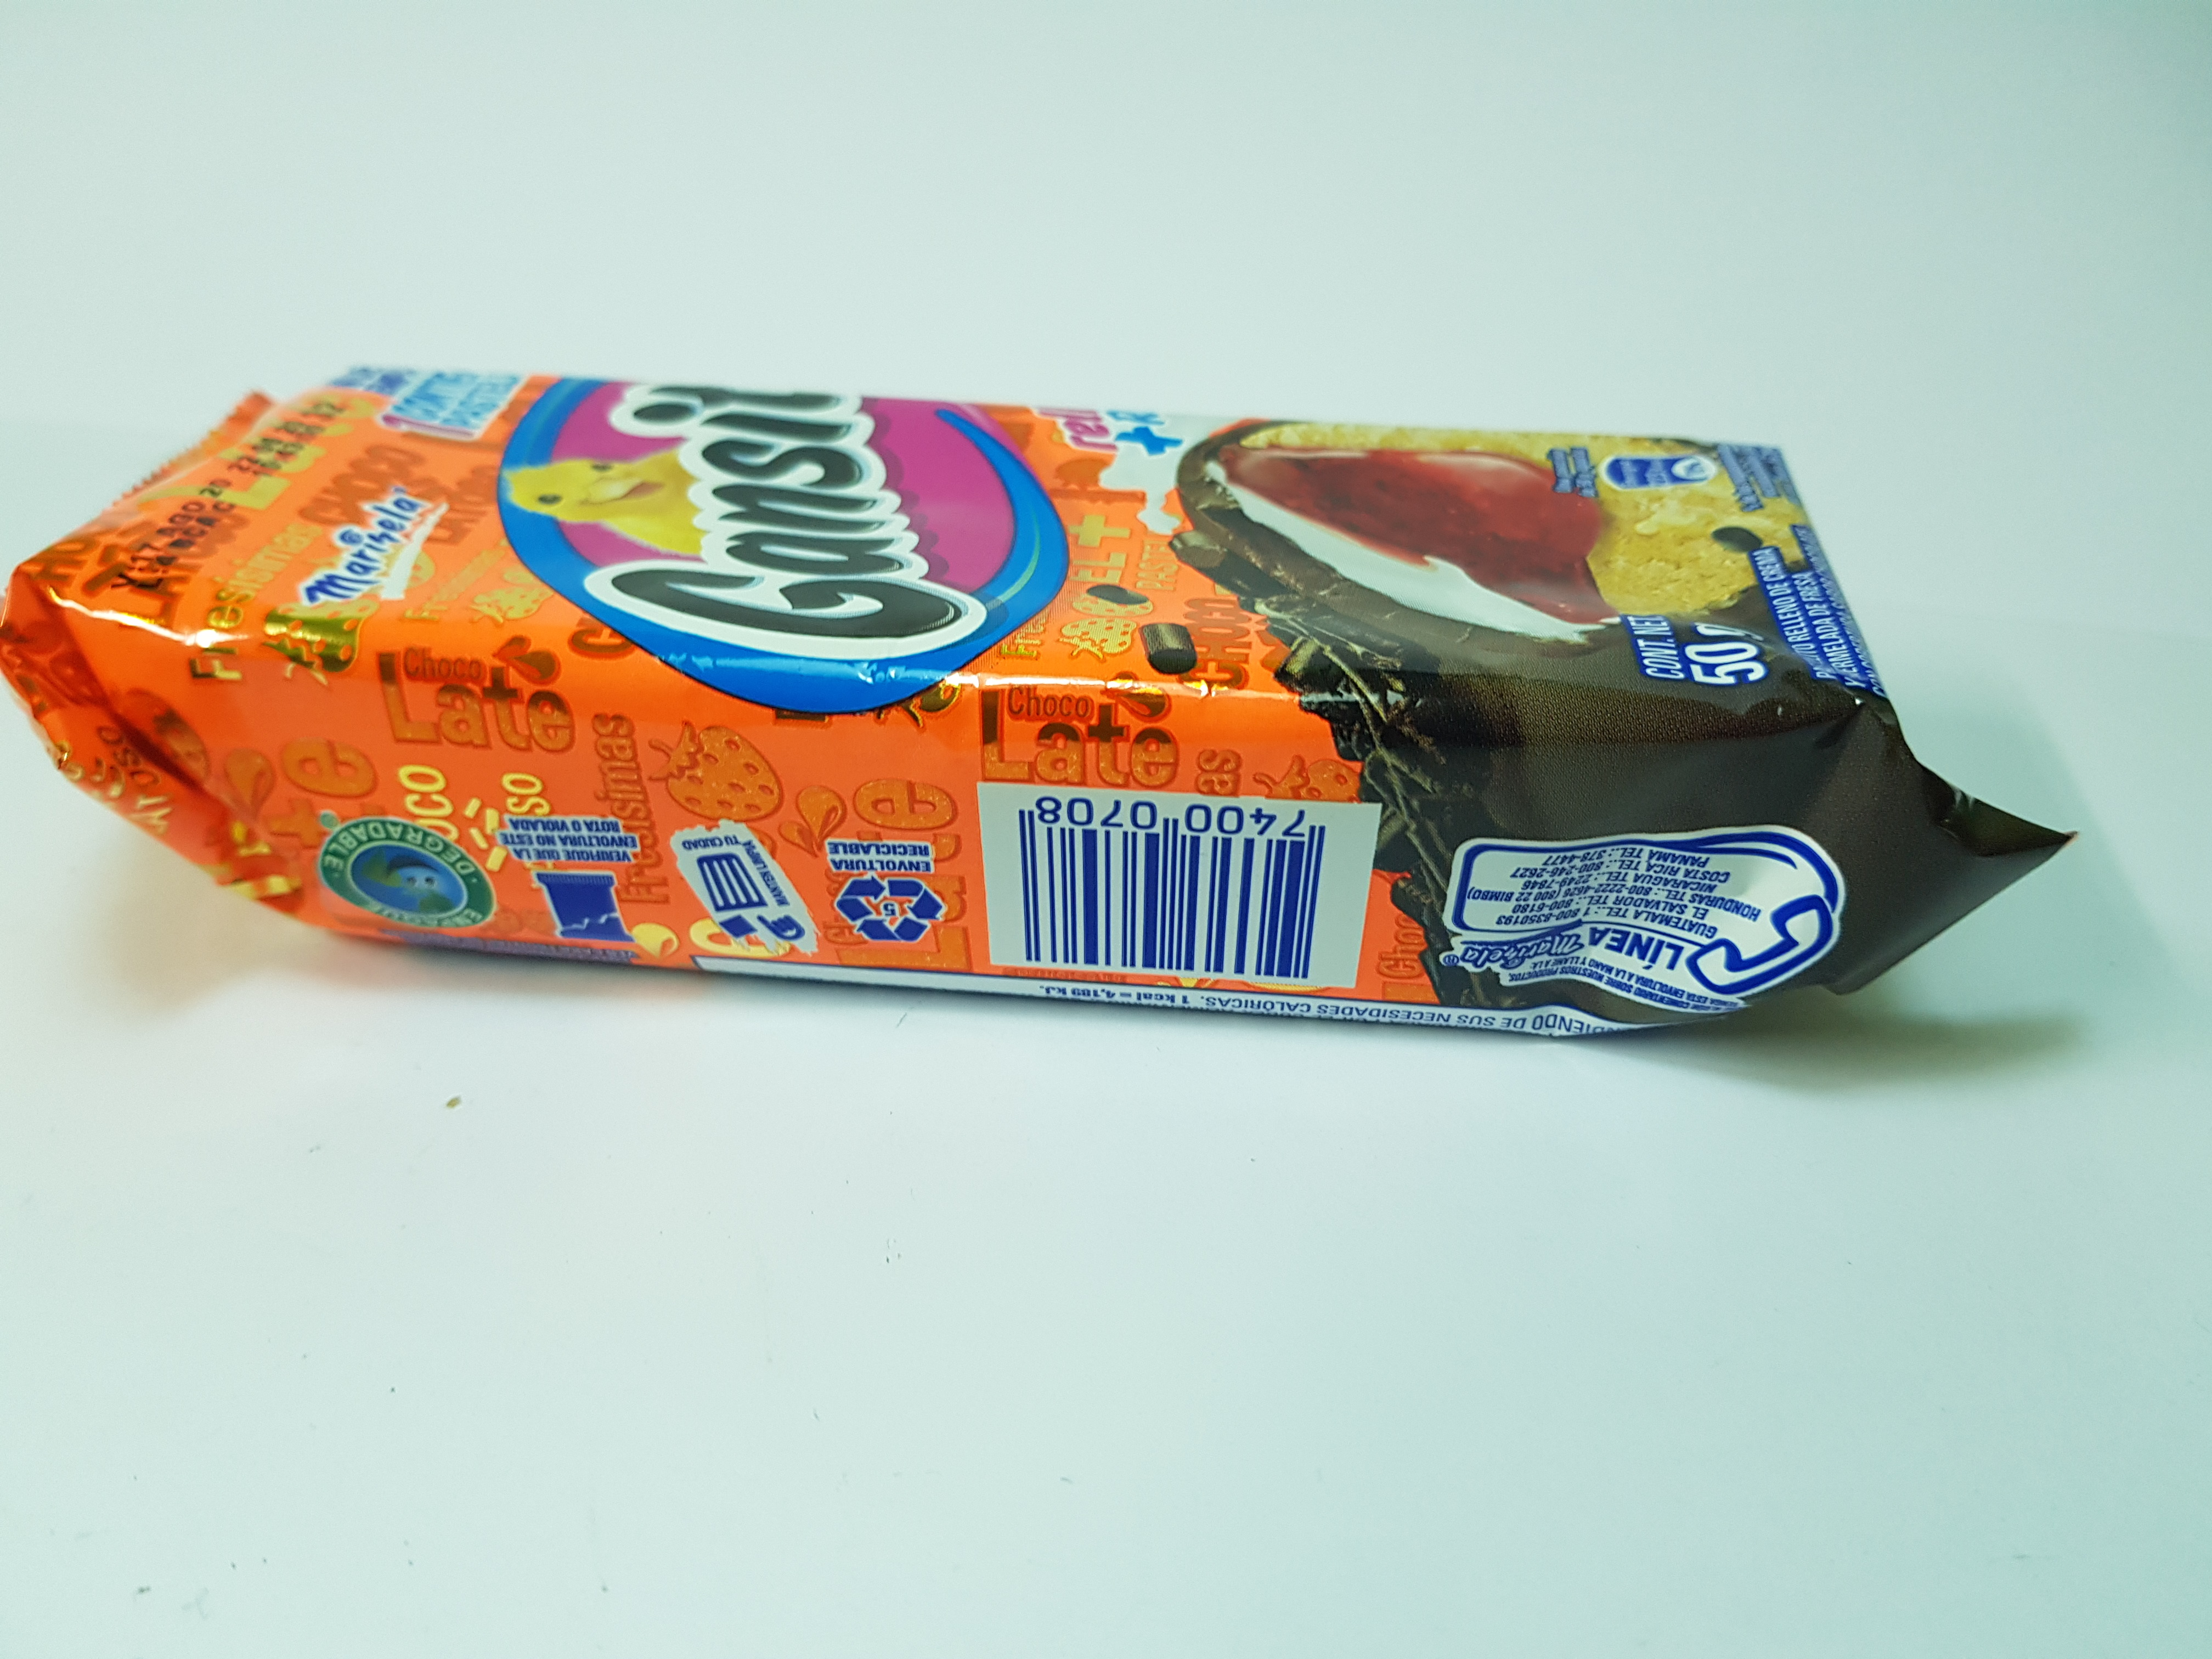gansito: (2, 333, 2097, 1075)
